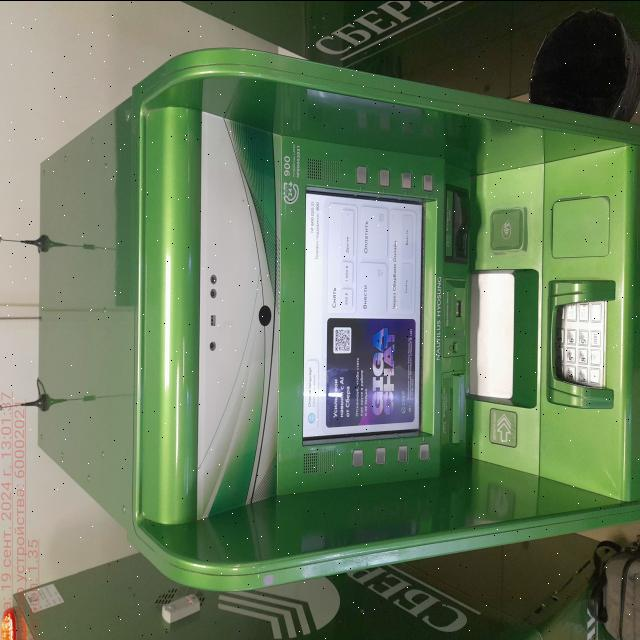bank: (41, 50, 640, 595)
